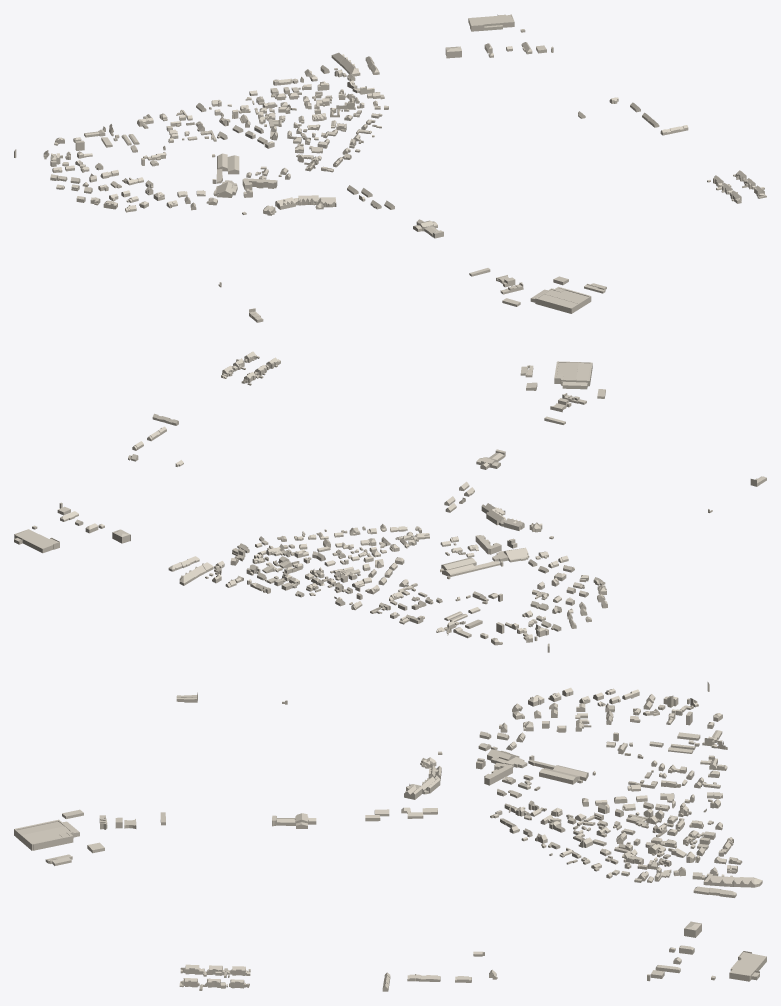
3 views of the same model, one above another, from view 1: azimuth 30°, elevation 25°; view 2: azimuth 150°, elevation 25°; view 3: azimuth 270°, elevation 25° (orthographic). The views are drawn at different scales.
Bounding box in the file's own units: 918 × 19.31 × 969.
